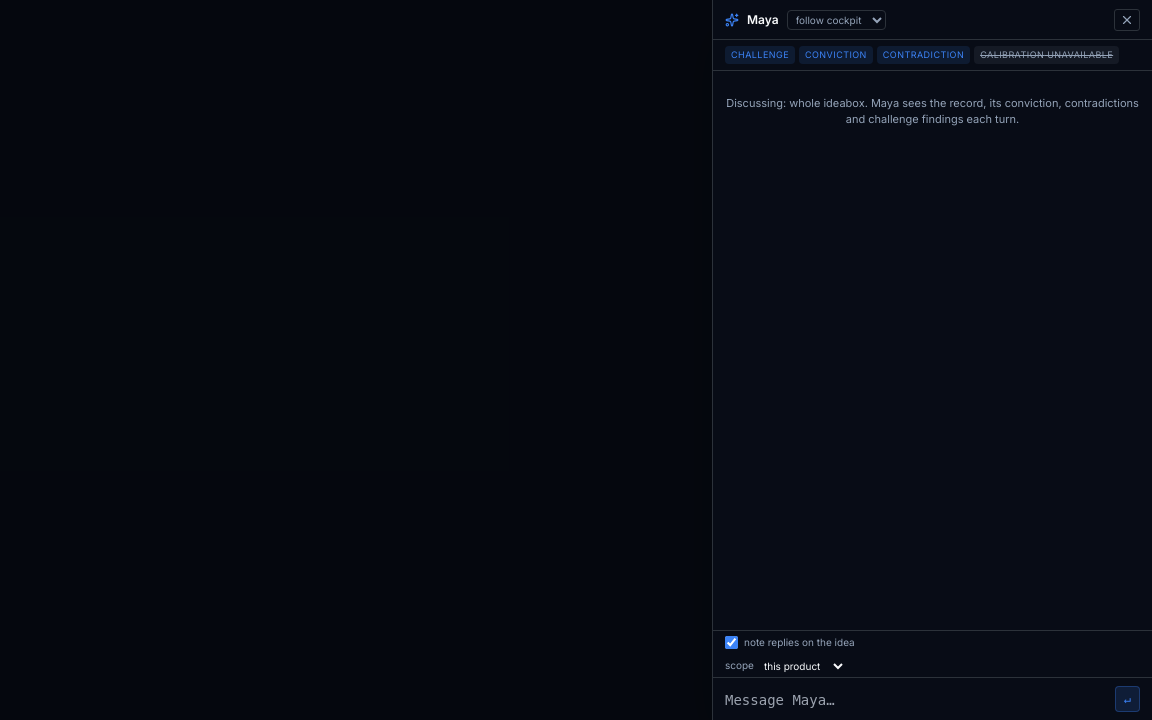
Test: conversation flow › routes a terminal SSE error through the existing error taxonomy
Type "hi" into the text box with placeholder "Message Maya…" at {"x": 916, "y": 701}, box [725,689,1107,712]
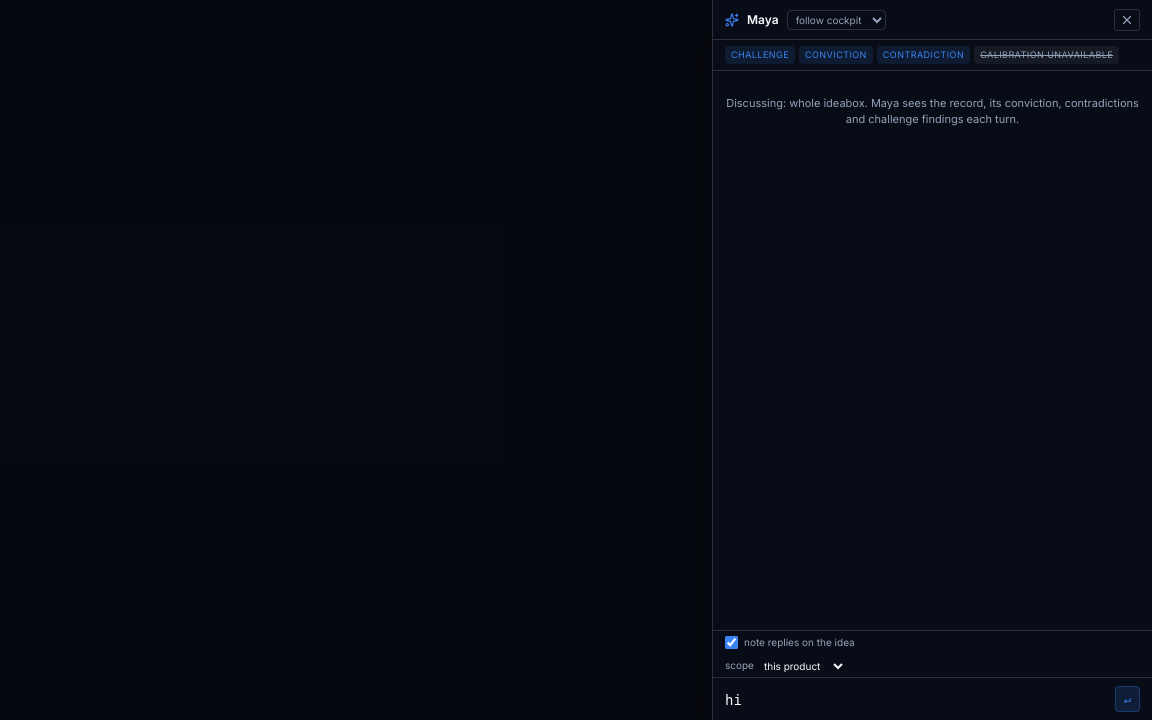
Press Enter in the text box, box [725,689,1107,712]
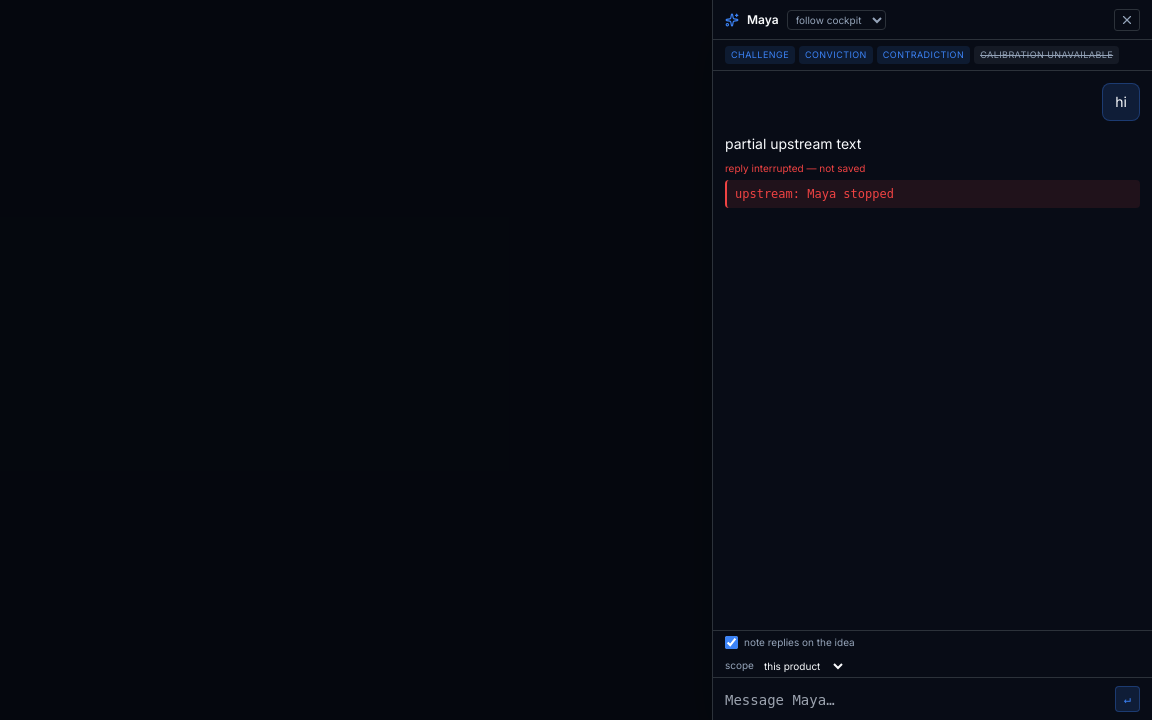
Check: the text "upstream: Maya stopped" is shown, box [725,180,1140,208]
Check: the text "partial upstream text" is shown, box [725,134,861,152]
